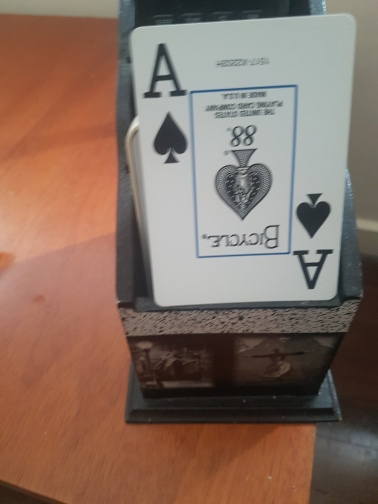ace: (131, 14, 358, 306)
